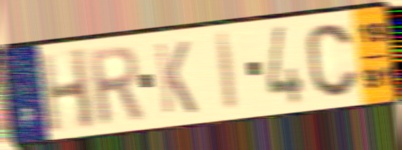4: (265, 22, 308, 109)
C: (304, 21, 362, 101)
H: (37, 45, 97, 135)
I: (214, 30, 241, 114)
K: (152, 38, 199, 117)
R: (85, 43, 147, 128)
